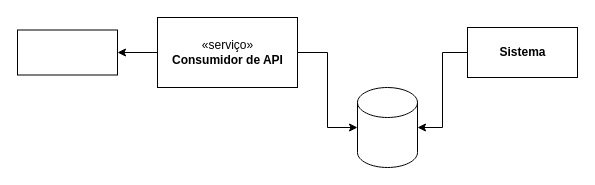
Image size: 595x185. Some labels were removed from this diagram. Each missing label, with the box of its shape:
API: (16, 29, 118, 75)
Banco de dados: (356, 86, 418, 168)
